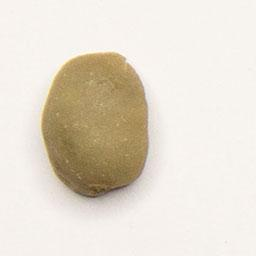premium: (36, 46, 154, 202)
